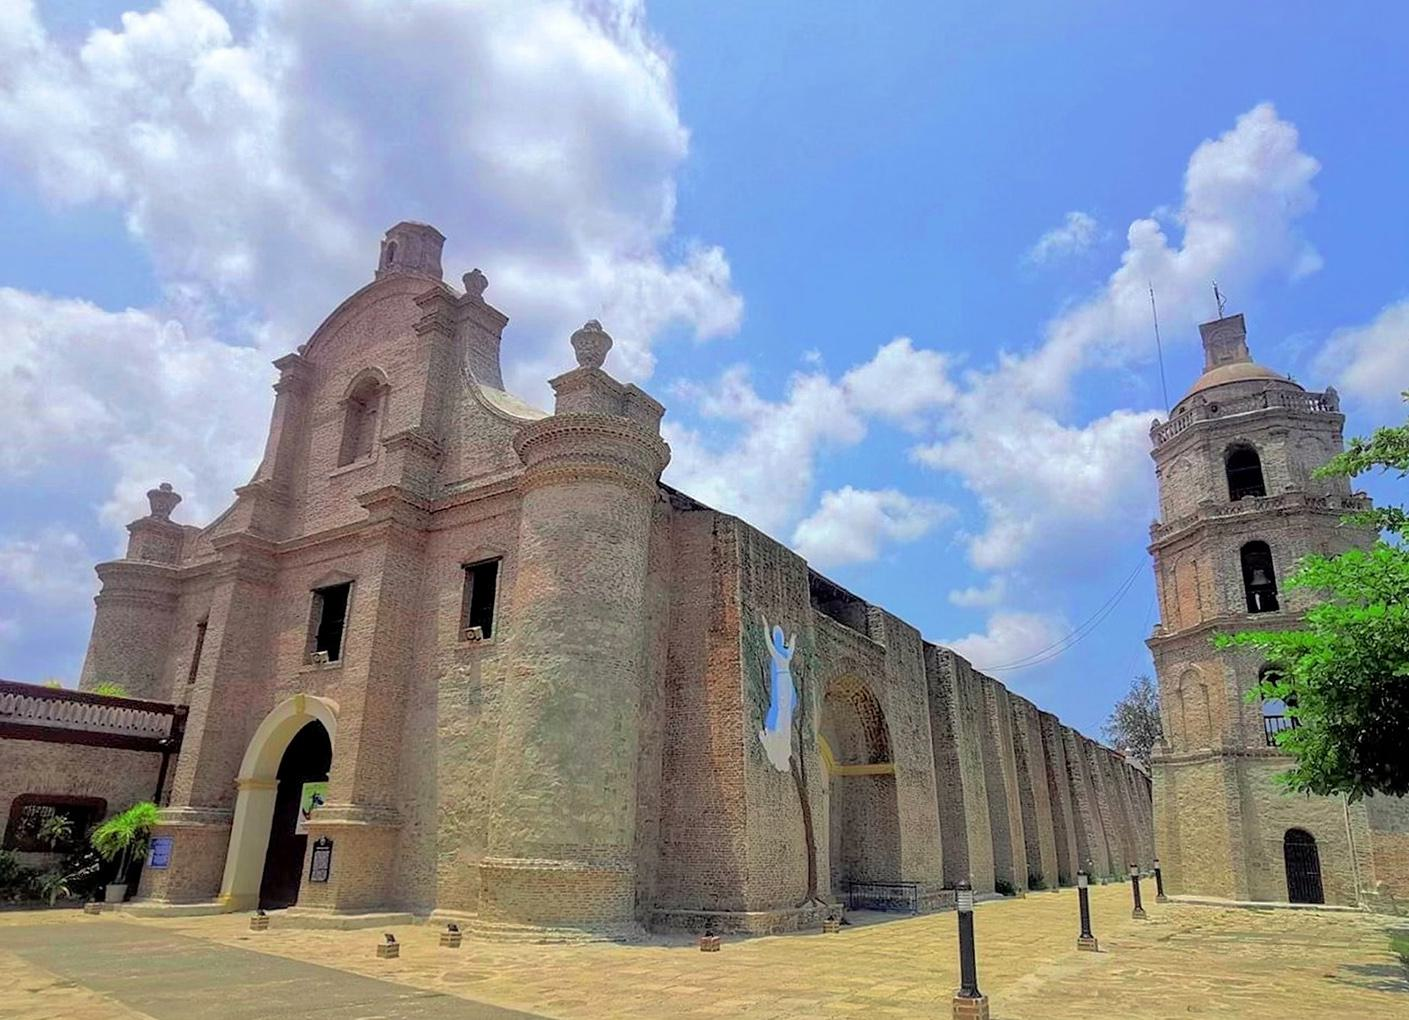Sta. Maria Church: (93, 216, 644, 934)
